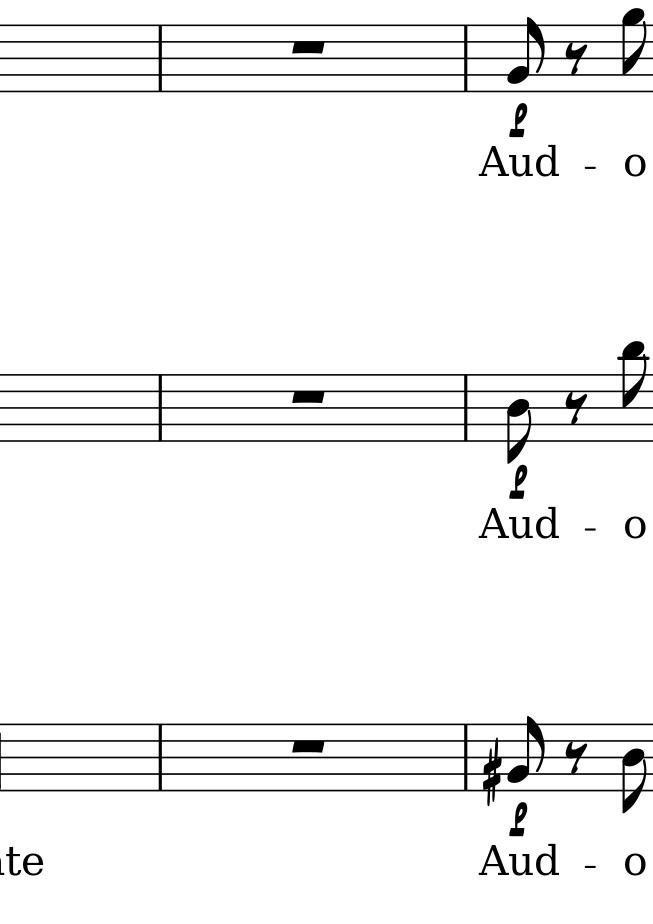8_11: (619, 341, 651, 444)
8_2: (505, 15, 545, 93), (507, 716, 547, 792)
8_4: (505, 370, 535, 467), (618, 721, 647, 816)
8_9: (619, 8, 648, 92)
Rests1: (288, 736, 325, 759), (289, 386, 328, 407), (288, 38, 328, 56)
Rests8: (563, 40, 588, 77), (563, 391, 588, 427), (562, 740, 588, 774)
Sharp: (480, 736, 501, 807)
Single_barline: (457, 725, 475, 791), (457, 27, 475, 91), (457, 376, 474, 441), (152, 24, 168, 92), (152, 722, 168, 789), (153, 375, 168, 440)
p: (505, 101, 529, 139), (507, 464, 529, 500), (508, 801, 528, 838)
